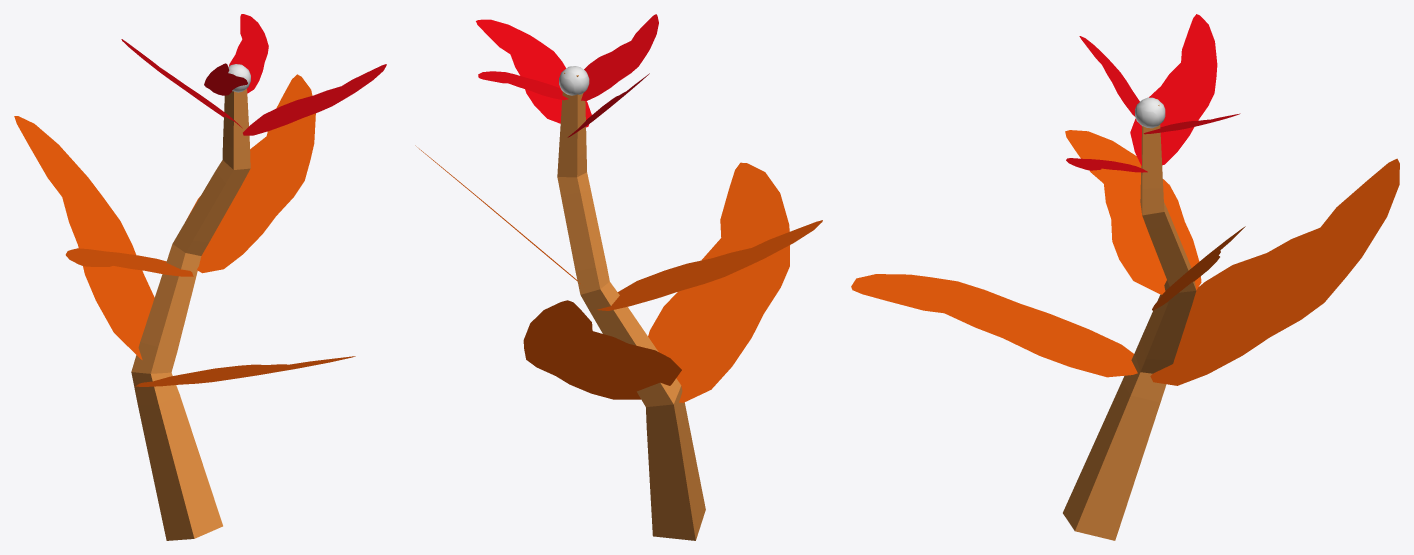
The model's file is Teriaks lekarski.fbx.
3 views of the same model, side by side, from view 1: azimuth 30°, elevation 25°; view 2: azimuth 150°, elevation 25°; view 3: azimuth 270°, elevation 25° (orthographic). The views are drawn at different scales.
Parts seen in each view (by area): view 1: Cube, Plane, Plane.001, Plane.002; view 2: Plane, Cube, Plane.002, Plane.001, Mball; view 3: Plane, Cube, Plane.001, Plane.002, Mball.
Boxes of the visible parts, box(x1,y1,x2,y2) form: Cube: box(131, 89, 250, 540); Plane: box(14, 116, 355, 386); Plane.001: box(65, 74, 315, 276); Plane.002: box(121, 14, 386, 135); Plane: box(523, 162, 789, 402); Cube: box(557, 72, 705, 540); Plane.002: box(476, 14, 658, 137); Plane.001: box(415, 145, 822, 310); Mball: box(559, 66, 589, 95); Plane: box(851, 158, 1399, 385); Cube: box(1063, 99, 1196, 540); Plane.001: box(1065, 130, 1245, 310); Plane.002: box(1066, 14, 1240, 172); Mball: box(1135, 97, 1165, 128).
Bounding box in the file's own units: 152 × 217 × 211.
